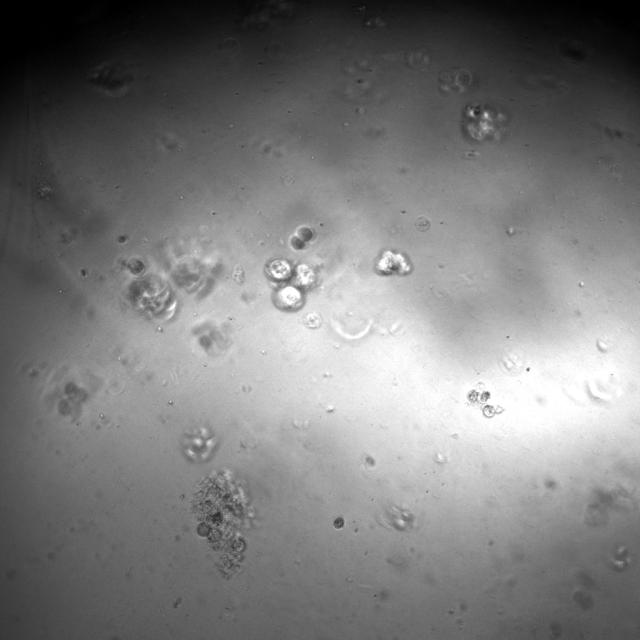organoid: (191, 472, 253, 576), (264, 258, 318, 311), (461, 101, 510, 143), (128, 273, 174, 316), (466, 380, 504, 418), (182, 426, 219, 462), (57, 381, 88, 416), (374, 249, 412, 277), (289, 225, 314, 250), (128, 258, 146, 276), (414, 215, 431, 231), (334, 517, 344, 529), (117, 235, 128, 244), (79, 267, 88, 277)
